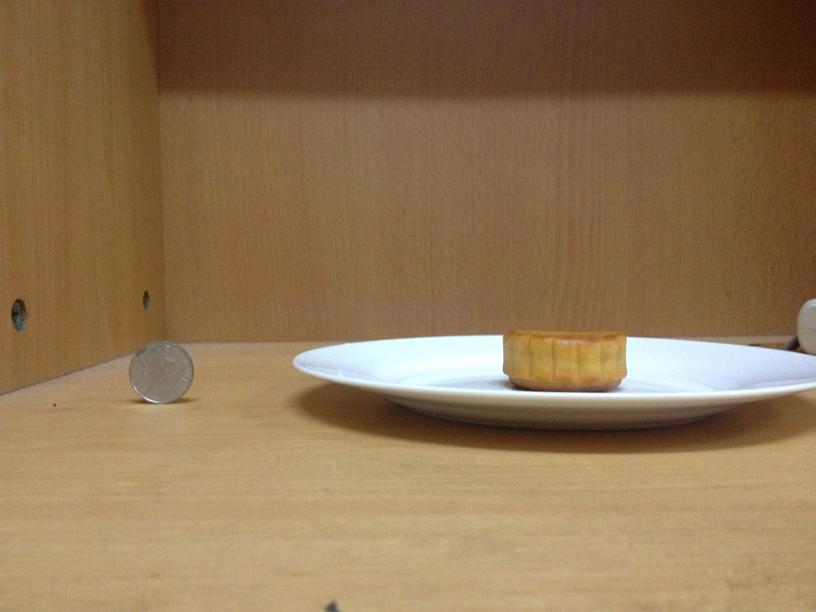coin: (128, 340, 195, 404)
mooncake: (499, 325, 627, 389)
